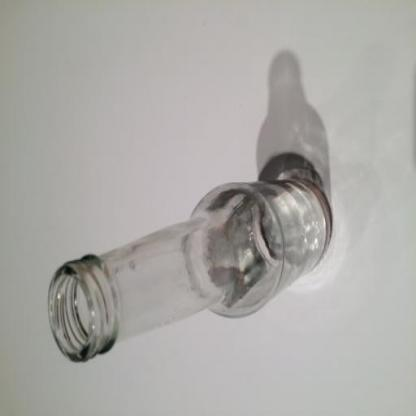trash: (48, 176, 332, 366)
